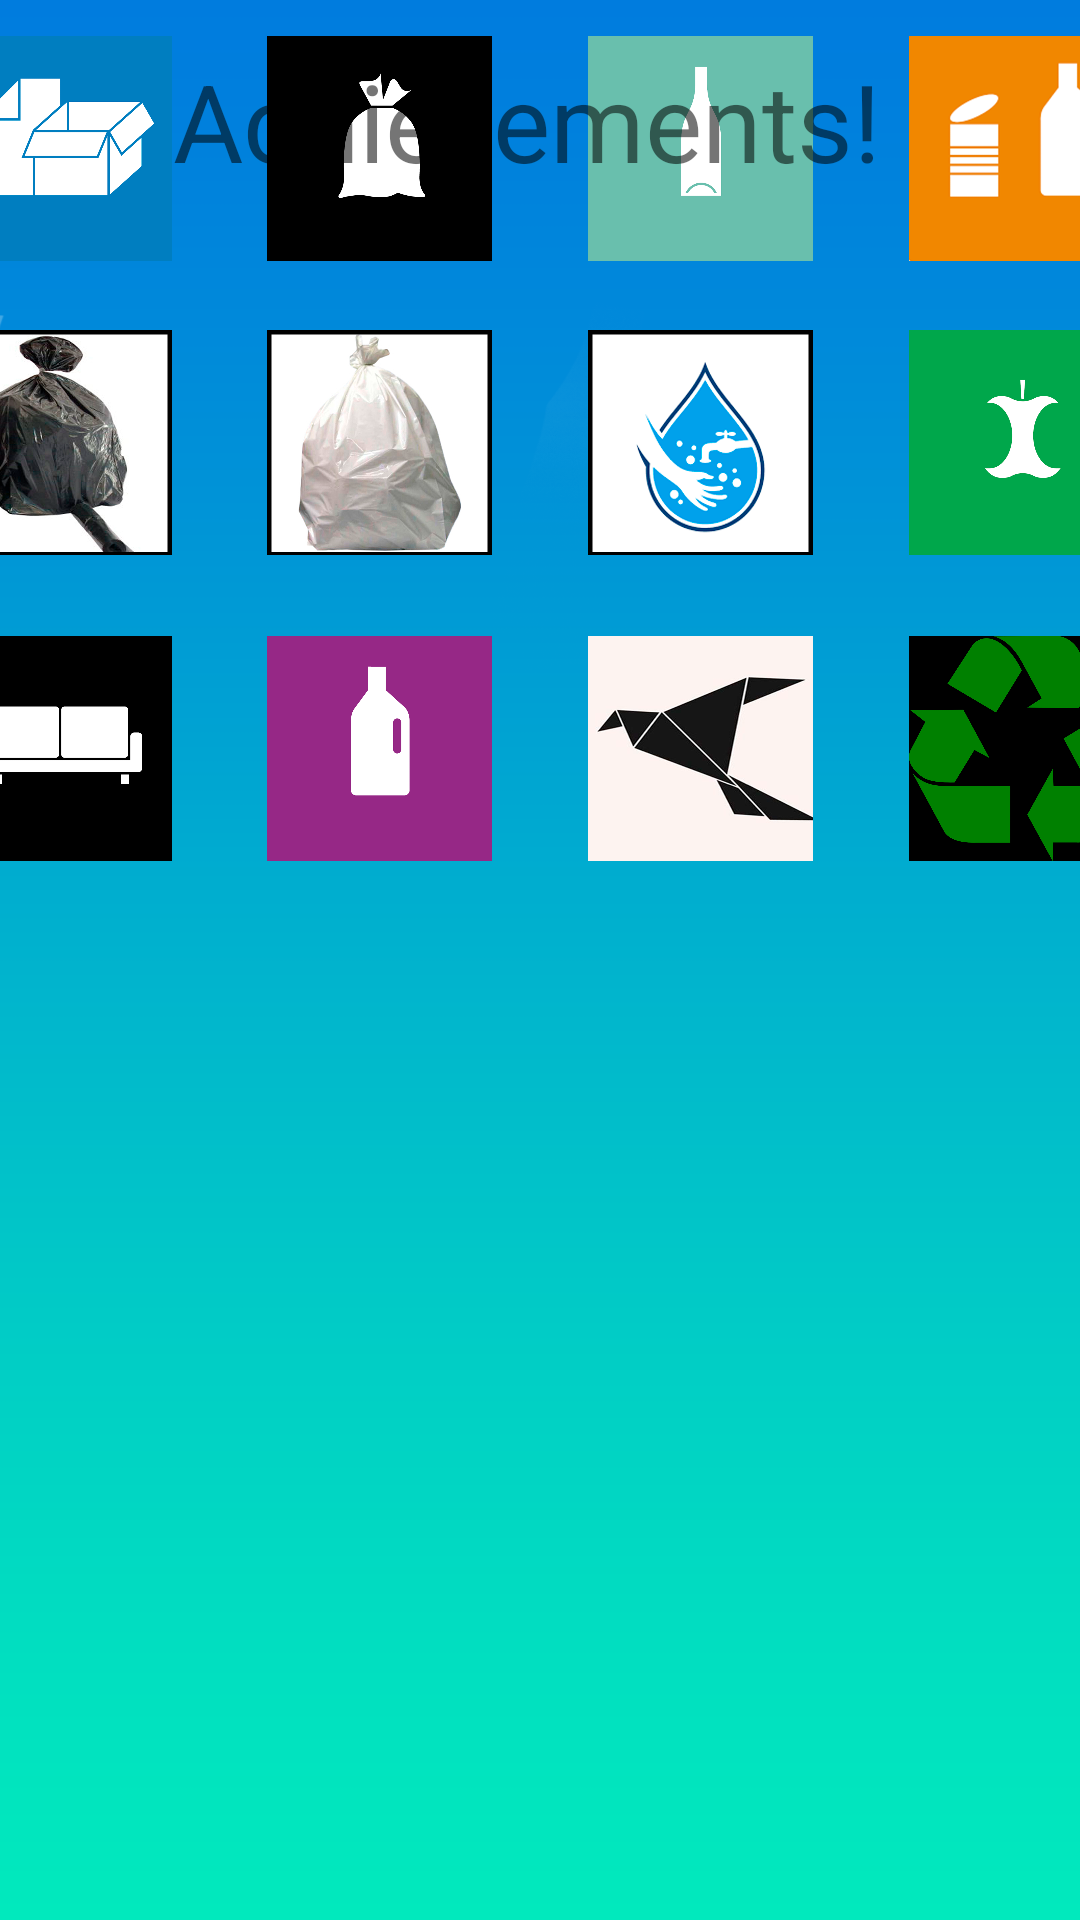

Locate icon controls on the screen. Image size 1080*1920, boxes as (x1, y1, x2, y2).
glas: (588, 36, 813, 261)
haard plast: (267, 636, 492, 861)
restaffald: (267, 36, 492, 261)
skyl: (588, 330, 813, 555)
